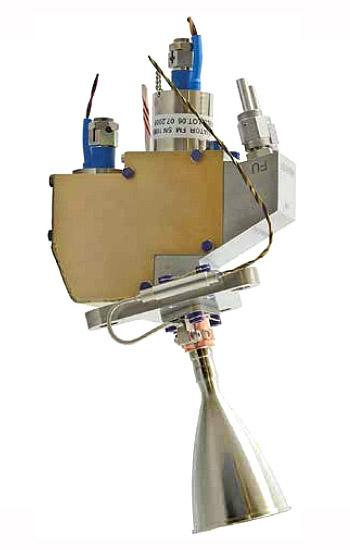thruster: (184, 347, 290, 535)
